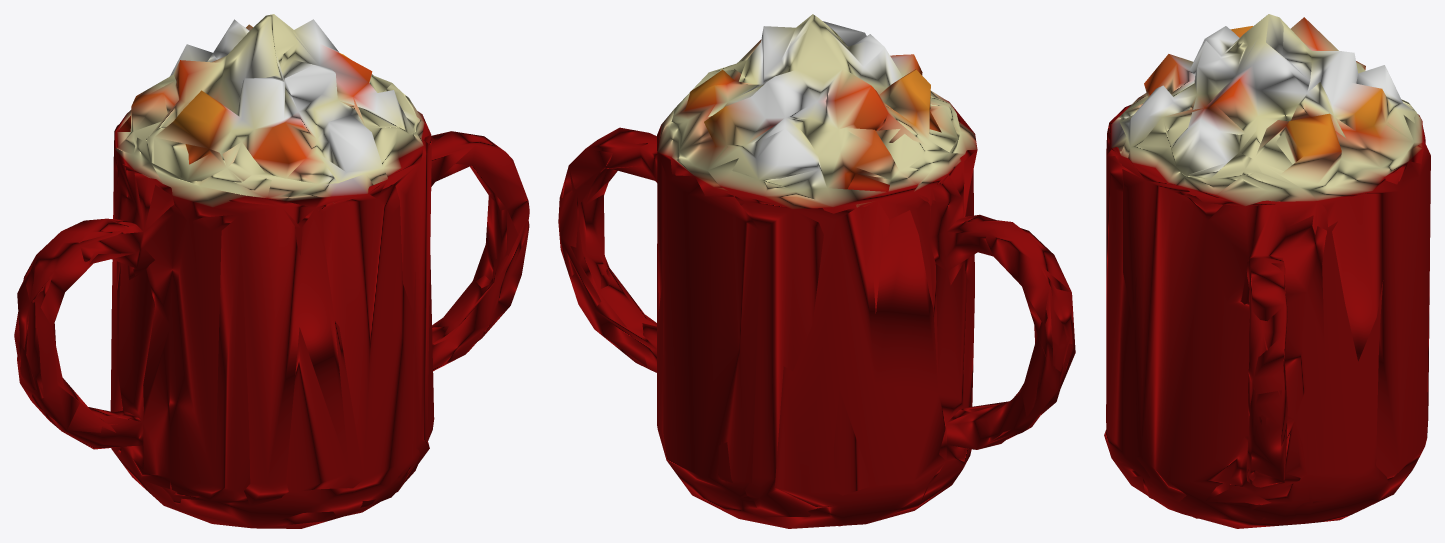
The model's file is gen3d-hot-cocoa-mug-lod0.glb.
3 renders of one model, left to right at view 1: azimuth 30°, elevation 25°; view 2: azimuth 150°, elevation 25°; view 3: azimuth 270°, elevation 25°, orthographic.
Parts seen in each view (by area): view 1: part_0; view 2: part_0; view 3: part_0.
Boxes of the visible parts, bbox=[...] form: part_0: bbox=[14, 14, 529, 528]; part_0: bbox=[558, 14, 1075, 528]; part_0: bbox=[1104, 14, 1430, 528].
Size of the model in its own units: 1.12 by 0.9949 by 0.625.
